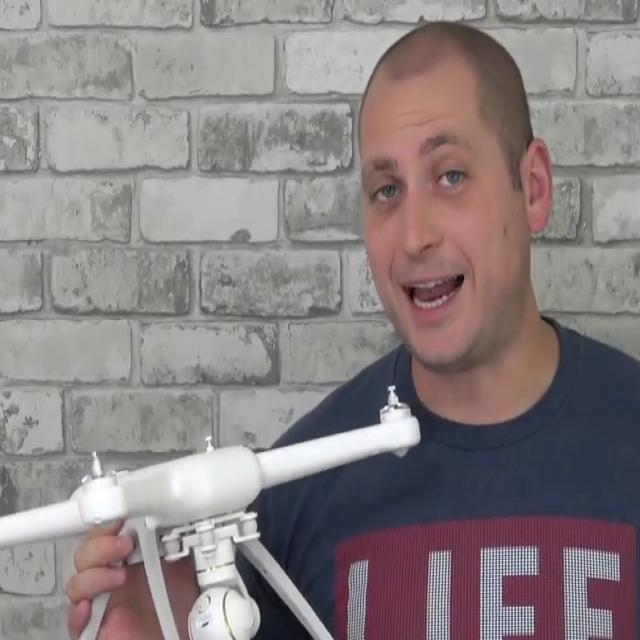drone: (0, 385, 427, 575)
